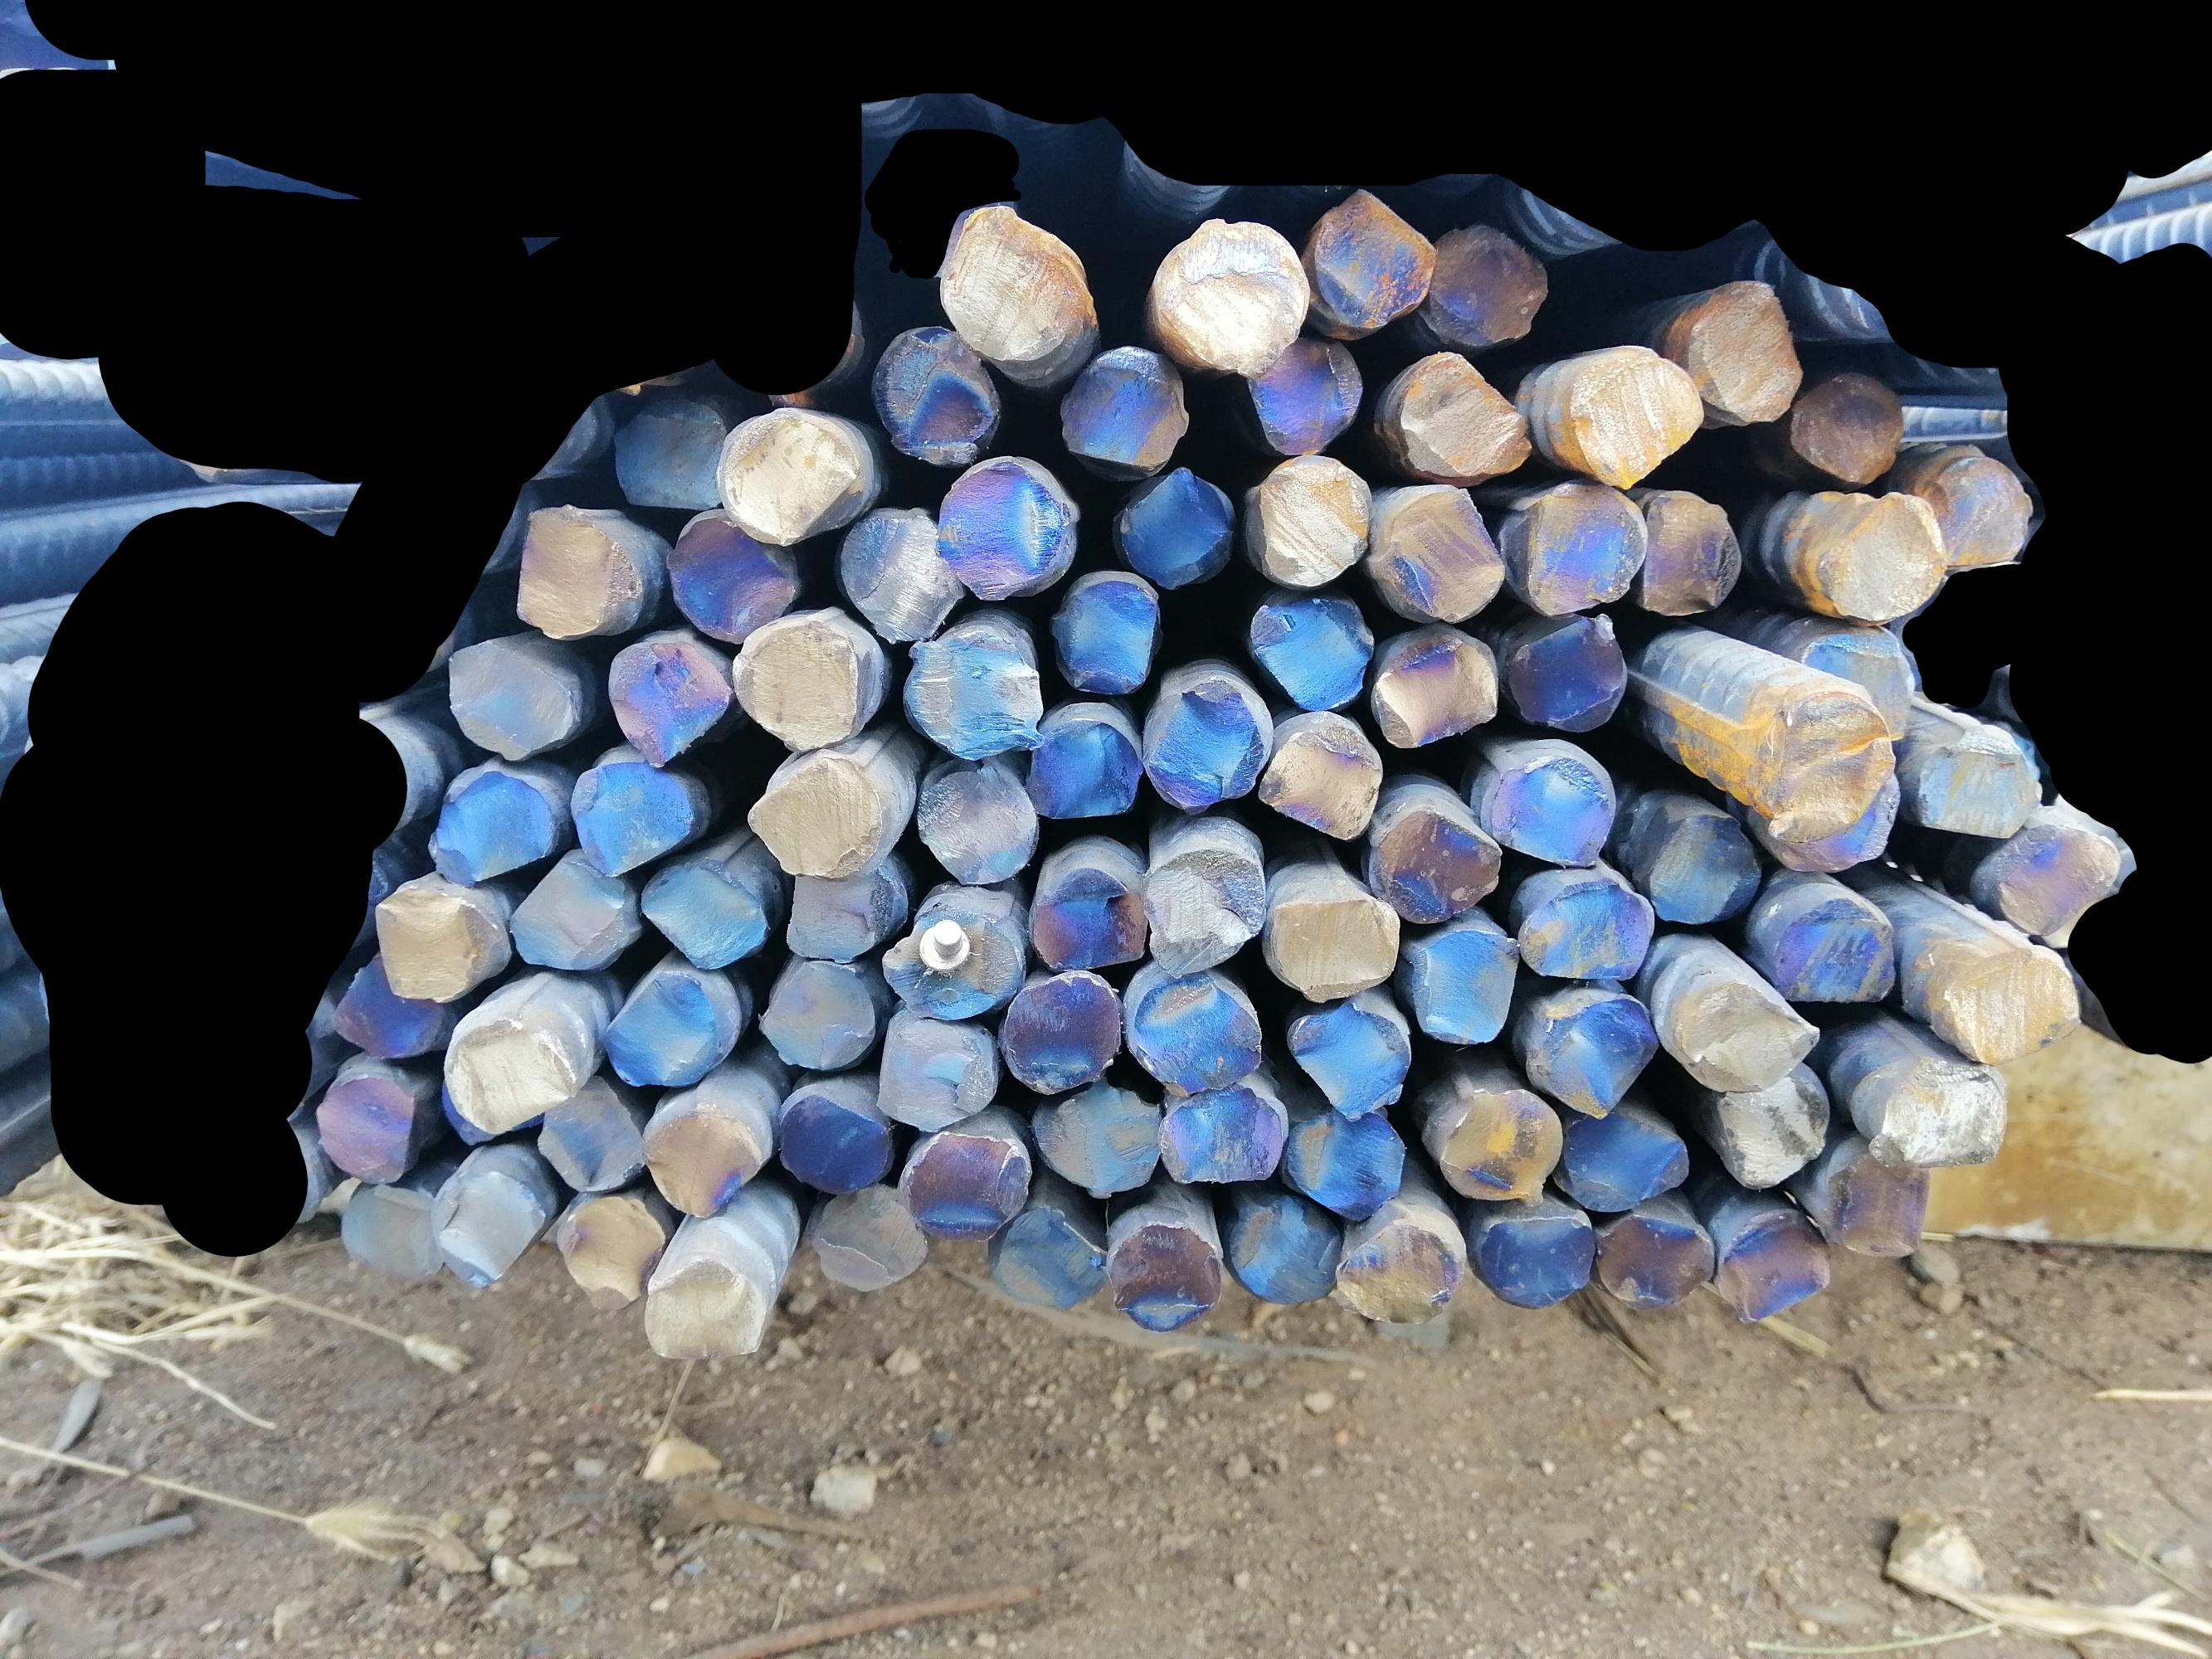bar: (1152, 213, 1309, 376), (931, 199, 1084, 362), (1741, 683, 1896, 838), (933, 455, 1075, 606), (1388, 349, 1537, 488), (1565, 342, 1705, 491), (879, 894, 1028, 1030), (901, 624, 1044, 765), (1930, 934, 2081, 1066), (713, 401, 851, 545), (1668, 962, 1818, 1094), (1506, 483, 1647, 622), (1055, 336, 1191, 479), (1909, 439, 2045, 582), (1137, 669, 1271, 812), (1302, 186, 1436, 329), (438, 1004, 582, 1134), (873, 317, 1001, 465), (729, 619, 865, 756), (1370, 483, 1504, 622), (1677, 277, 1804, 423), (1126, 967, 1262, 1103), (662, 505, 797, 643), (743, 749, 882, 882), (1483, 744, 1625, 875), (1360, 805, 1508, 929), (1525, 985, 1658, 1122), (1815, 488, 1945, 626), (601, 629, 730, 769), (444, 633, 582, 762), (837, 502, 964, 640), (427, 1161, 551, 1302), (420, 758, 561, 882), (512, 500, 634, 643), (1863, 1054, 2008, 1175), (567, 753, 701, 880), (1252, 453, 1372, 594), (1431, 1080, 1565, 1206), (1978, 824, 2128, 936), (1260, 892, 1403, 1009), (910, 760, 1039, 889), (605, 962, 737, 1087), (1281, 1000, 1414, 1126), (1102, 1213, 1229, 1342), (1337, 1206, 1468, 1331), (504, 850, 636, 974), (1145, 847, 1269, 979), (1773, 889, 1902, 1014), (1766, 769, 1914, 877), (1112, 464, 1238, 591), (1914, 725, 2043, 849), (1550, 1103, 1691, 1215), (1246, 589, 1375, 711), (1375, 626, 1506, 746), (640, 1100, 765, 1223), (875, 1009, 1001, 1133), (610, 389, 732, 516), (1517, 878, 1659, 986), (1246, 331, 1368, 457), (1260, 714, 1382, 840), (1002, 971, 1123, 1098), (638, 1251, 776, 1361), (1424, 221, 1546, 345), (1644, 800, 1762, 927), (898, 1129, 1028, 1244), (1023, 1082, 1157, 1194), (1713, 1068, 1832, 1194), (1802, 615, 1917, 744), (1286, 1105, 1407, 1227), (1513, 610, 1630, 735), (375, 890, 502, 1006), (1398, 929, 1525, 1044), (1030, 857, 1150, 976), (526, 1072, 641, 1195), (1830, 1140, 1937, 1272), (1227, 1185, 1344, 1305), (640, 857, 767, 967), (1788, 362, 1905, 481), (1159, 1080, 1281, 1194), (1640, 484, 1741, 620), (1475, 1204, 1598, 1314), (553, 1183, 669, 1298), (812, 1176, 926, 1295), (762, 958, 879, 1072), (1023, 716, 1145, 824), (990, 1199, 1107, 1310), (314, 1066, 420, 1187), (779, 861, 899, 967), (774, 1089, 894, 1194), (1055, 570, 1157, 692), (1598, 1202, 1717, 1304), (1722, 1216, 1832, 1324), (336, 955, 446, 1061), (342, 1178, 443, 1283)
